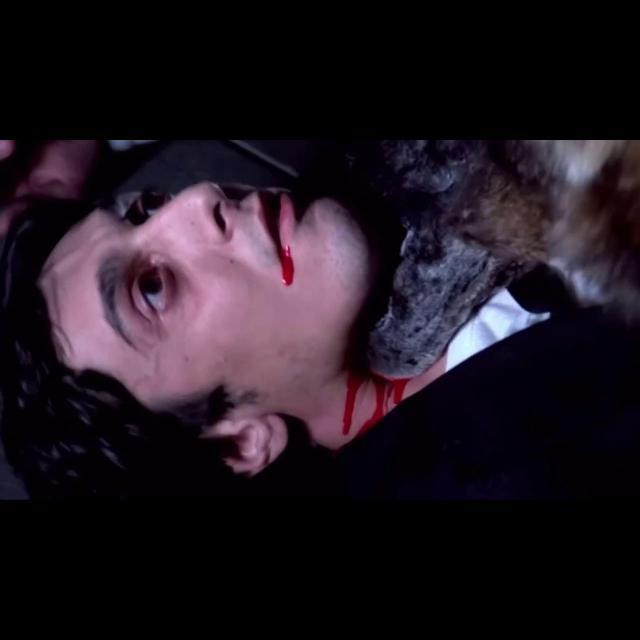blood: (343, 370, 412, 437), (278, 244, 294, 285)
